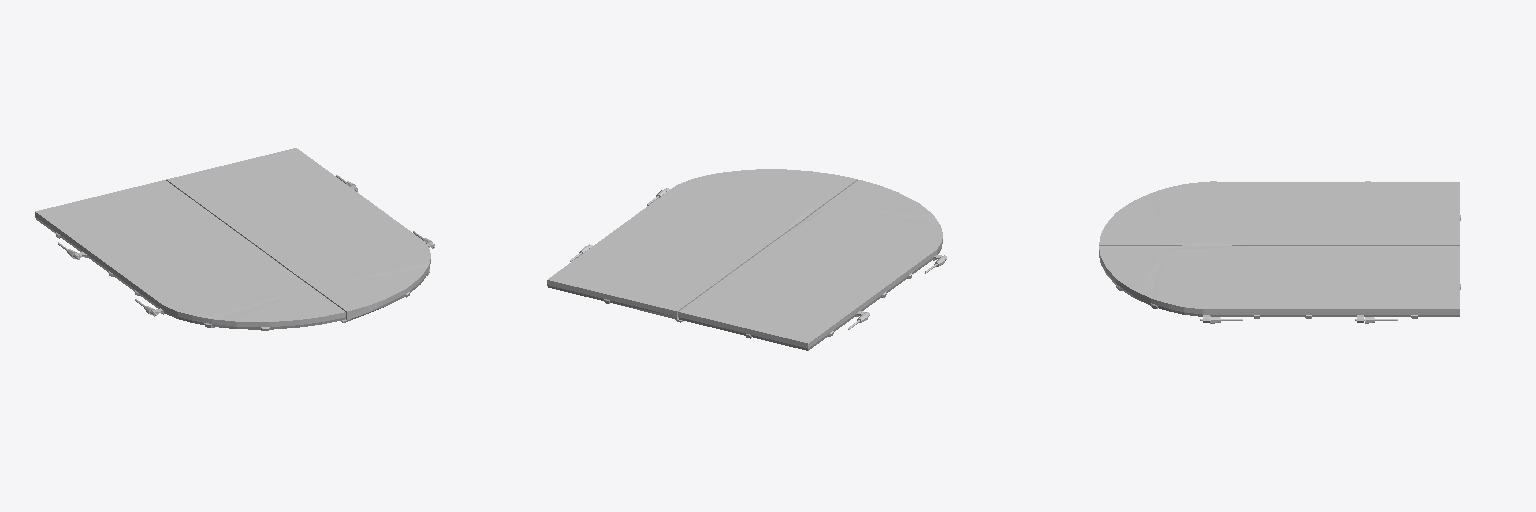
File: sewer_door.obj
3 views of the same model, side by side, from view 1: azimuth 30°, elevation 25°; view 2: azimuth 150°, elevation 25°; view 3: azimuth 270°, elevation 25° (orthographic).
Parts seen in each view (by area): view 1: Big_Door_L, Big_Door_R; view 2: Big_Door_L, Big_Door_R; view 3: Big_Door_R, Big_Door_L.
Part boxes in pixels (x1,y1,x2,y2): Big_Door_L: (35, 180, 345, 330); Big_Door_R: (166, 148, 434, 322); Big_Door_L: (678, 180, 946, 350); Big_Door_R: (547, 169, 857, 322); Big_Door_R: (1099, 246, 1460, 323); Big_Door_L: (1099, 181, 1460, 245).
Bounding box in the file's own units: 9.9 × 0.6884 × 10.93.